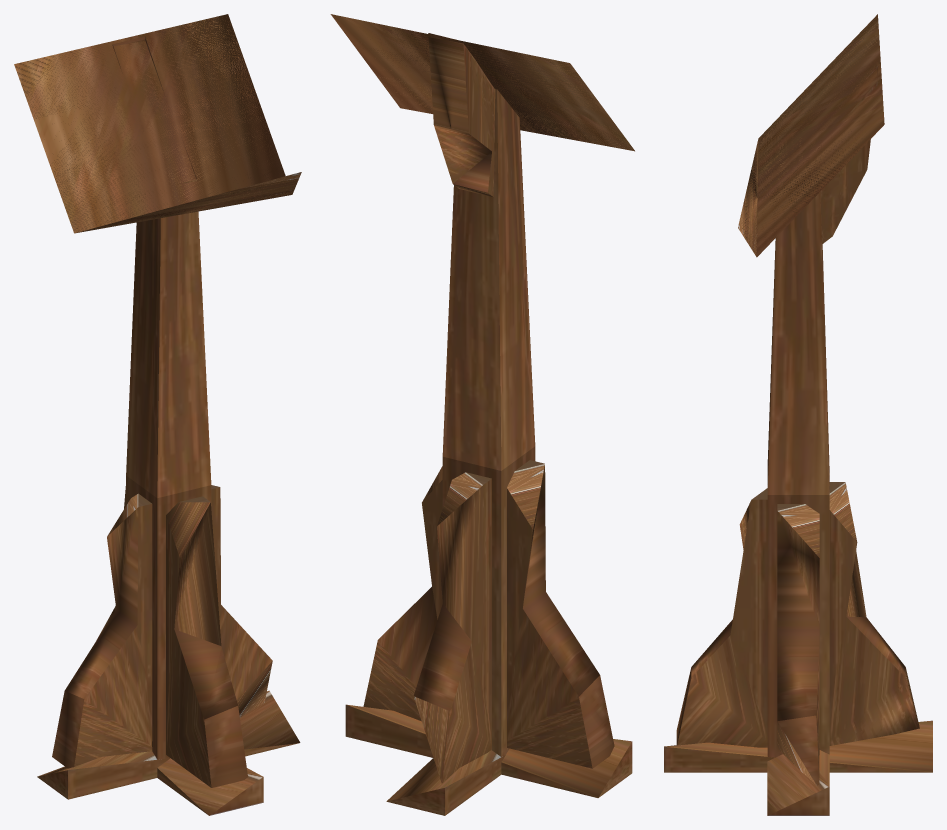
The model's file is BookStand.low.gltf.
The picture shows the model from 3 angles, left to right: view 1: azimuth 30°, elevation 25°; view 2: azimuth 150°, elevation 25°; view 3: azimuth 270°, elevation 25°; orthographic projection. The views are drawn at different scales.
Parts seen in each view (by area): view 1: BookStand; view 2: BookStand; view 3: BookStand.
Boxes of the visible parts, x1,y1,x2,y2 form: BookStand: [14, 14, 301, 815]; BookStand: [330, 14, 634, 815]; BookStand: [664, 14, 932, 815].
Size of the model in its own units: 0.5071 by 1.45 by 0.5112.
Materials: 1 (1 with a texture image).
